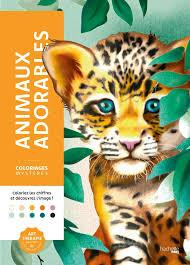Non_Gorille: (58, 21, 190, 265)
